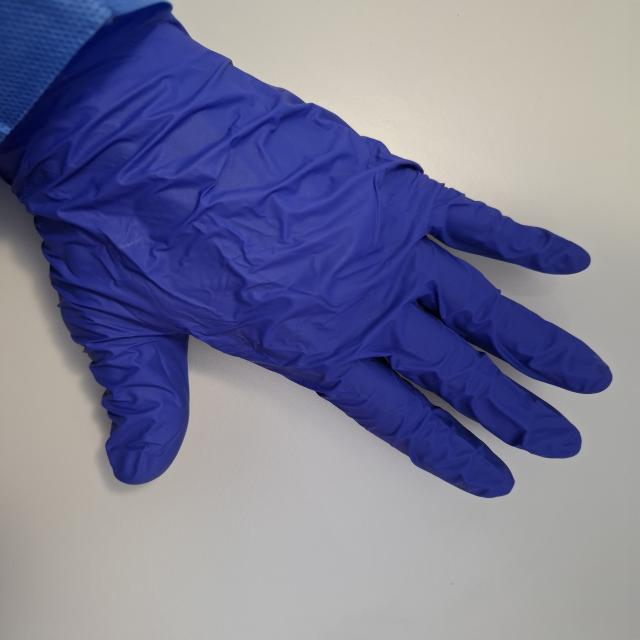glove_on: (0, 6, 620, 501)
